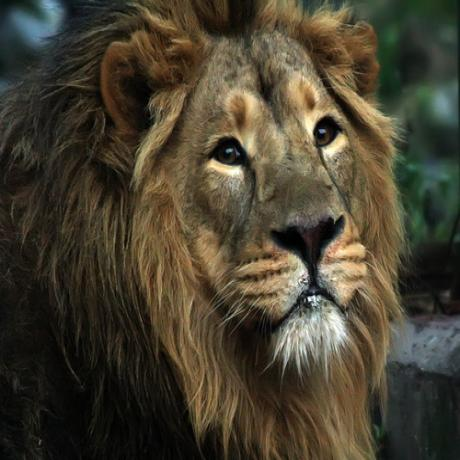Lion: (0, 0, 402, 460)
